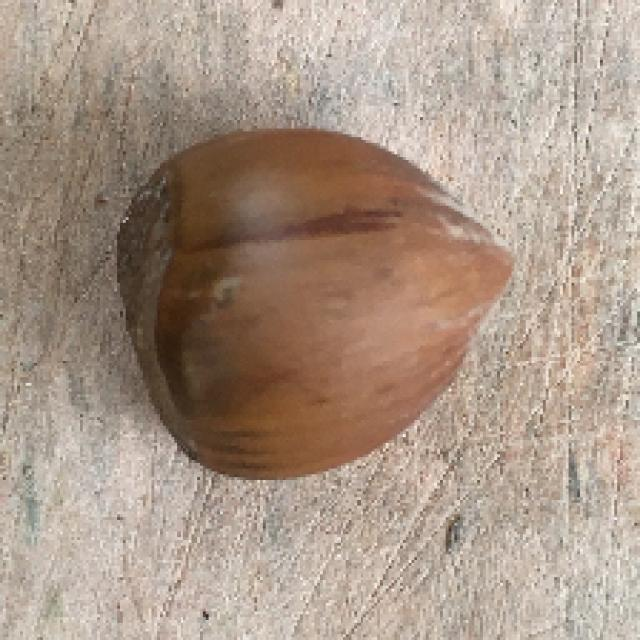qualityHazelnut: (101, 114, 526, 482)
